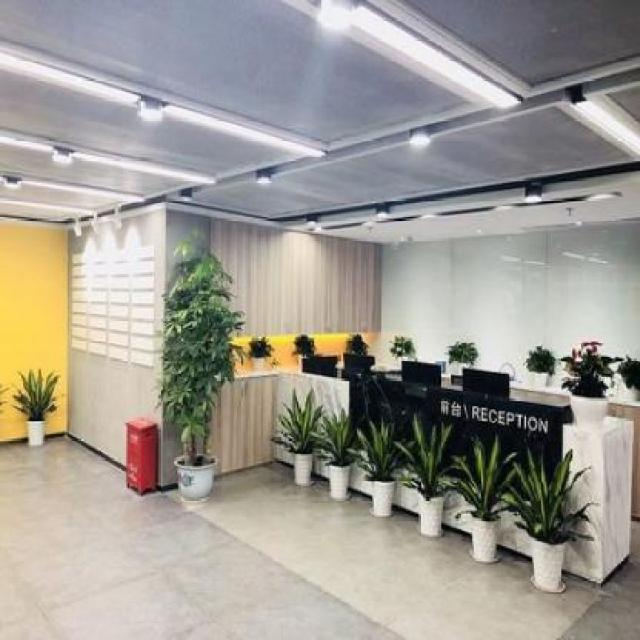frontdesk: (266, 337, 640, 601)
